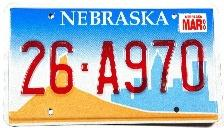0: (179, 37, 207, 93)
2: (20, 39, 46, 97)
6: (49, 39, 75, 96)
7: (153, 39, 176, 95)
9: (123, 39, 150, 94)
A: (96, 39, 122, 97)
